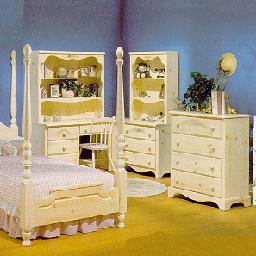Armario: (36, 49, 112, 159), (173, 114, 251, 210), (129, 55, 167, 176)
Cama: (5, 139, 127, 235)
